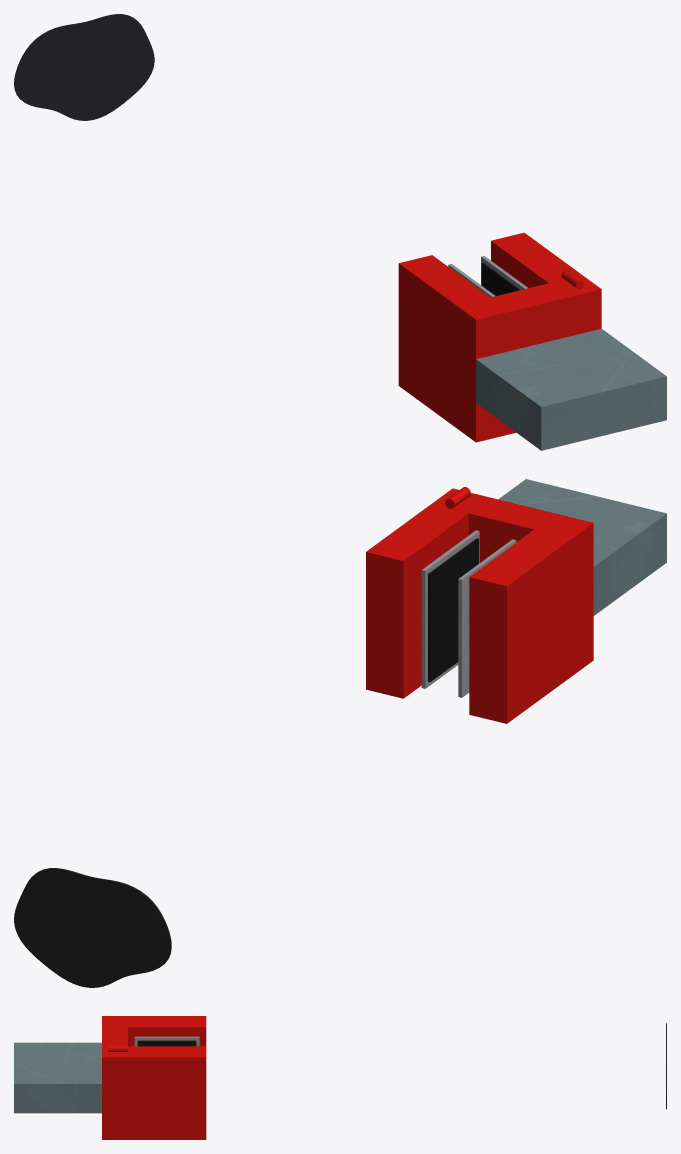
Rendered from brake_caliper_worn.glb.
3 renders of one model, top to bottom at view 1: azimuth 30°, elevation 25°; view 2: azimuth 150°, elevation 25°; view 3: azimuth 270°, elevation 25°, orthographic. The views are drawn at different scales.
Parts seen in each view (by area): view 1: brake_caliper_worn; view 2: brake_caliper_worn; view 3: brake_caliper_worn.
Boxes of the visible parts, left/top/right/bottom form: brake_caliper_worn: left=14, top=14, right=666, bottom=450; brake_caliper_worn: left=14, top=479, right=666, bottom=987; brake_caliper_worn: left=14, top=1016, right=666, bottom=1139.
Bounding box in the file's own units: 0.402 × 0.3 × 2.
Materials: 5 (2 with a texture image).
